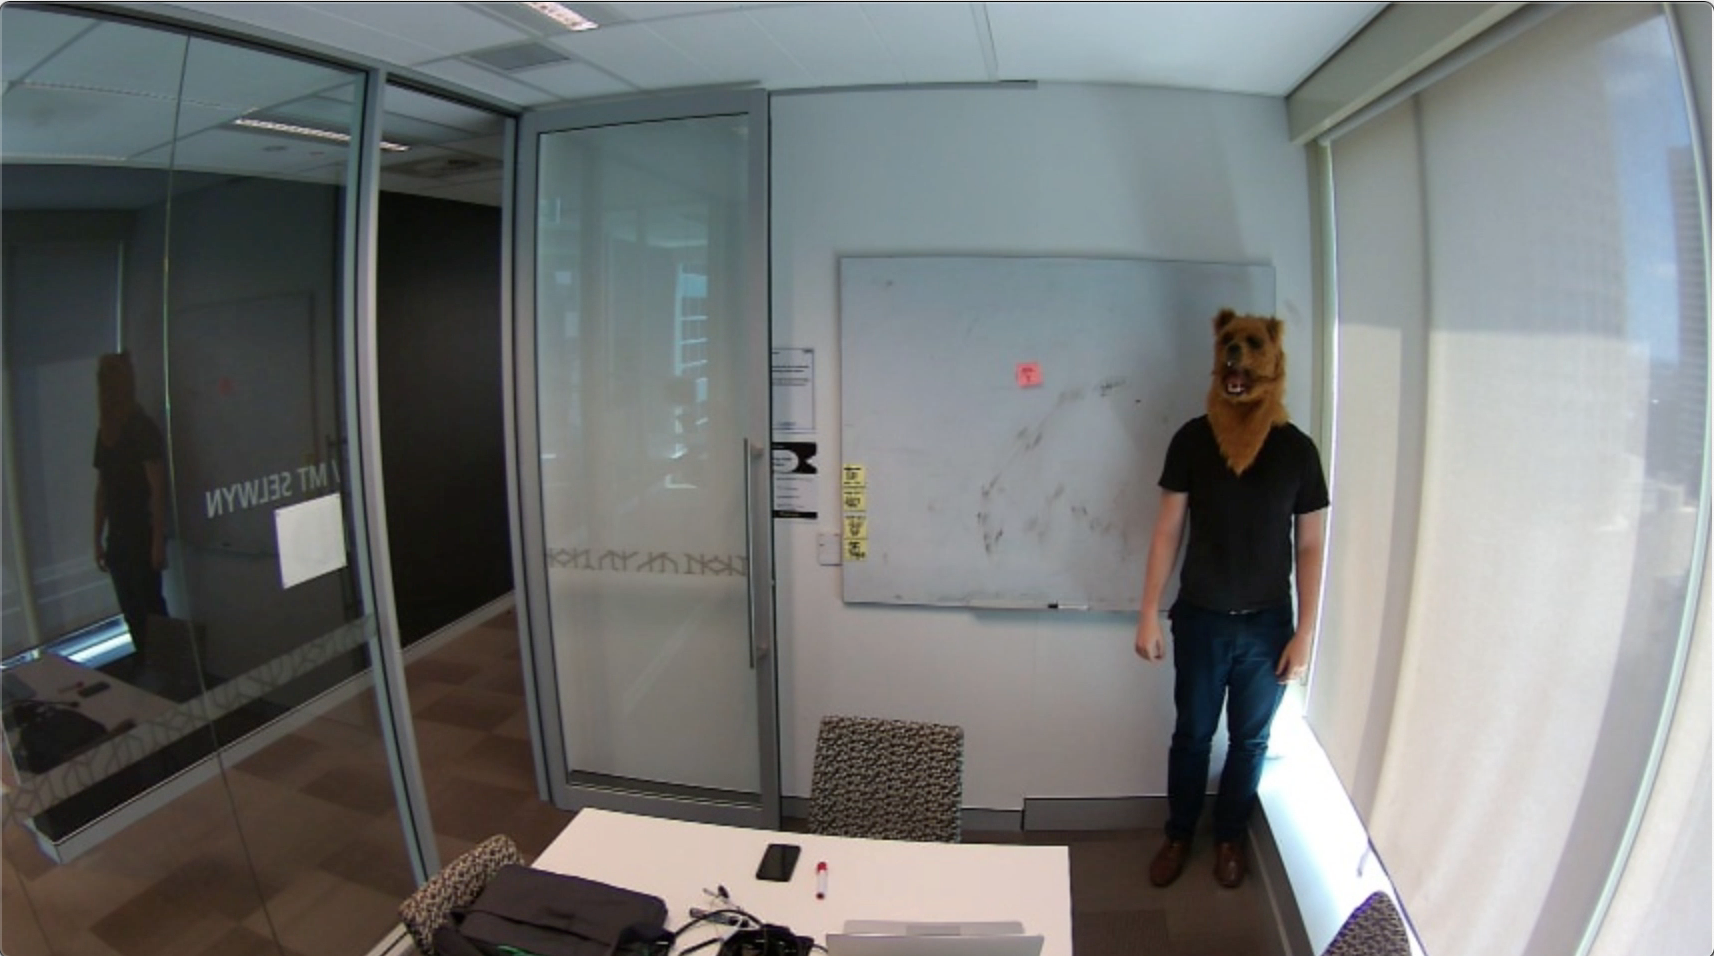Bear: (1205, 305, 1291, 420)
